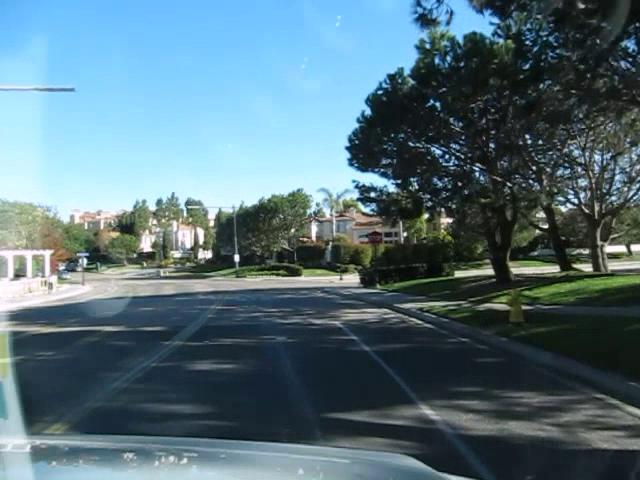stop: (367, 230, 383, 247)
